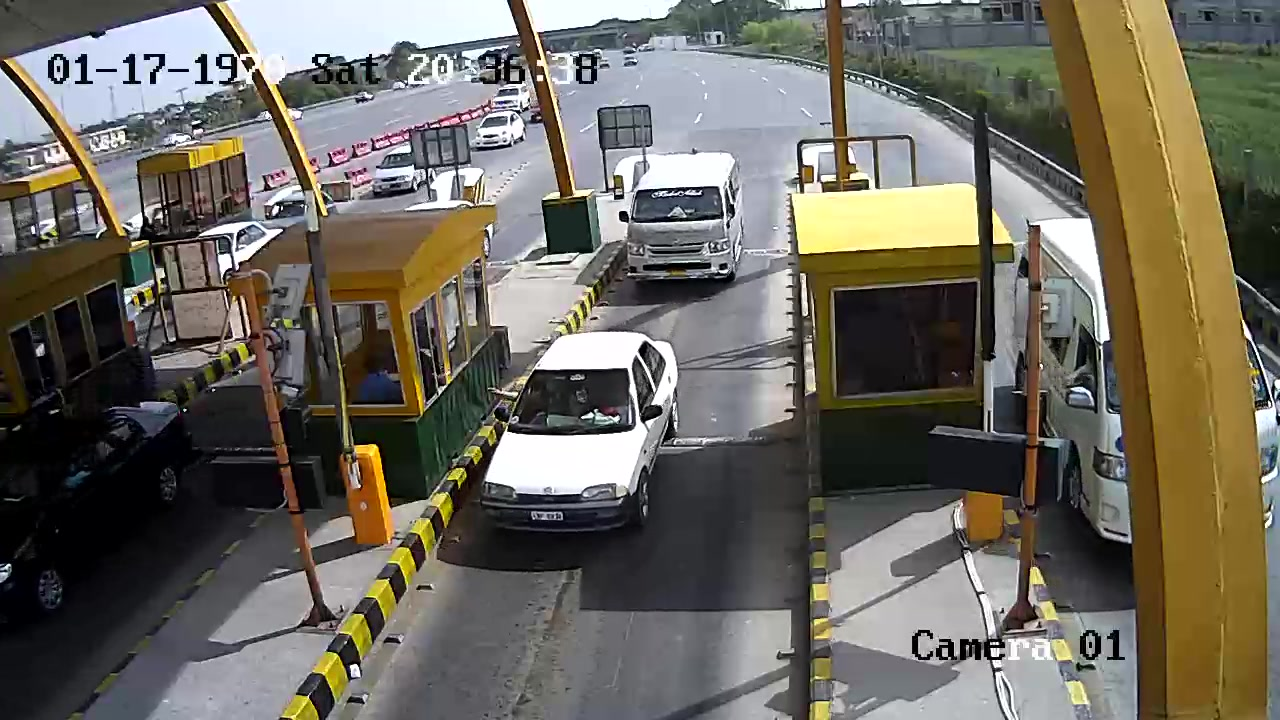F1: (455, 323, 708, 585)
